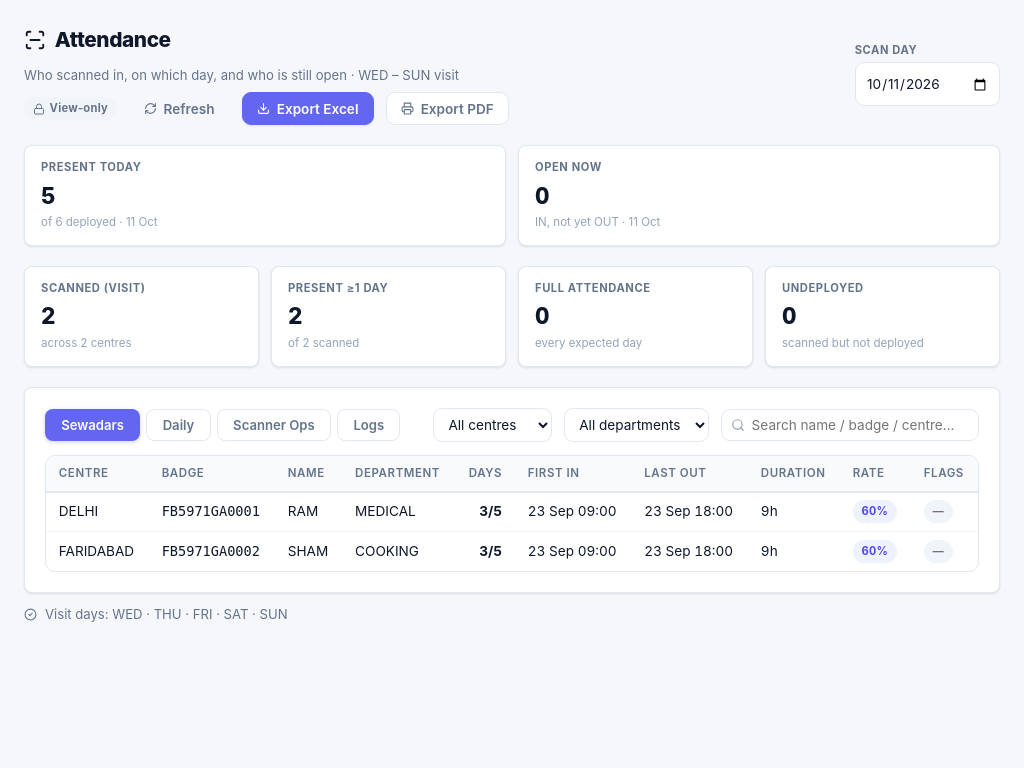
A11 — an RPC failure renders an error state, never a silent empty visit › degrades only the Scanner tab when scanner_ops fails — the page stays live
Expected: the text "RAM" is shown, [275,492,342,532]
Expected: the text "SHAM" is shown, [275,532,342,571]
# The Scanner Ops tab carries its own error card with a Retry.
Click the button "Scanner Ops". click: (274, 425)
box: [217,408,331,441]
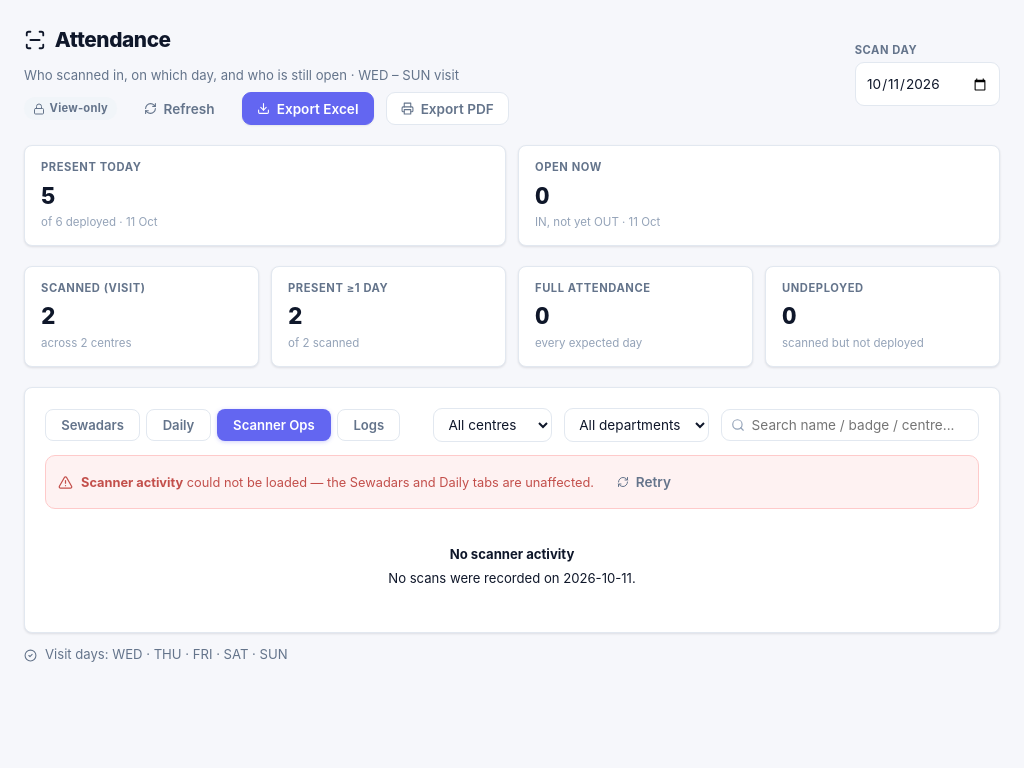
Expected: the text "Scanner activity" is shown, [81,475,183,490]
Expected: the text "could not be loaded" is shown, [183,475,594,490]
Expected: the button "Retry" is shown, [602,466,686,498]
# The Daily tab is unaffected — healthy data is never blanked.
Click the button "Daily". click: (179, 425)
box: [146,408,211,441]
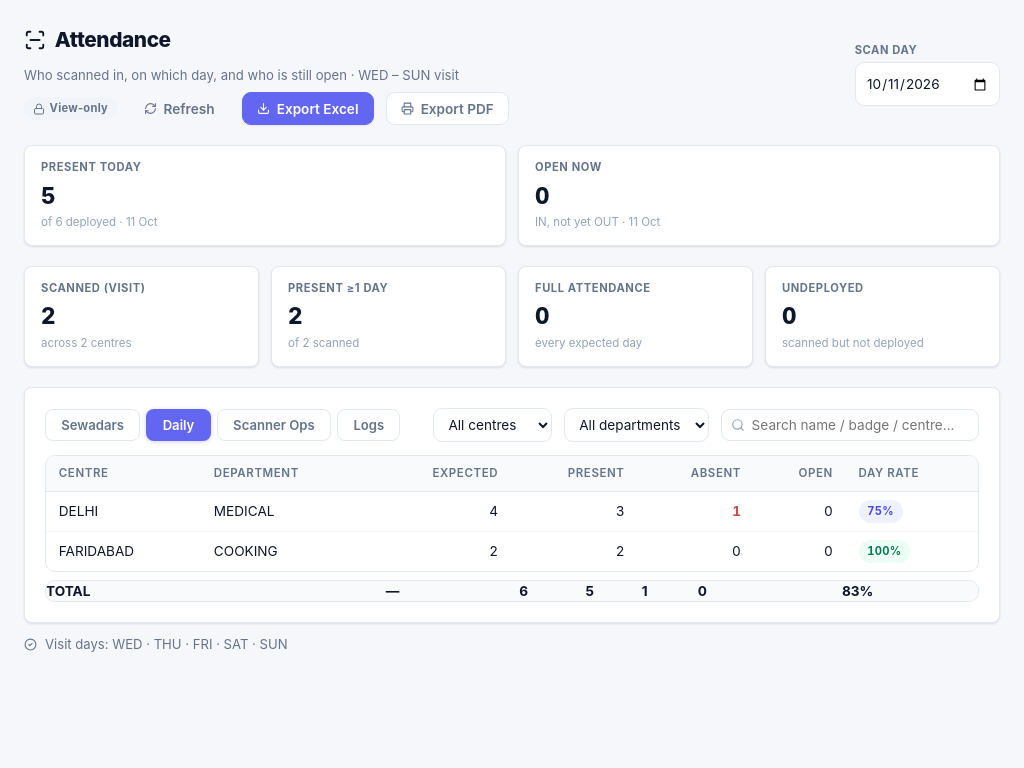
Expected: the message is gone
Expected: the row "DELHI MEDICAL 4 3 1 0 75%" is shown, [46,492,978,532]
